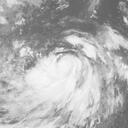cyclone: (25, 29, 106, 103)
